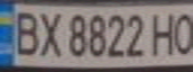2: (124, 10, 151, 58), (106, 10, 130, 58)
8: (63, 9, 90, 58), (84, 10, 109, 58)
B: (6, 7, 42, 56)
H: (148, 8, 181, 57)
O: (172, 8, 193, 56)
X: (36, 7, 66, 57)
